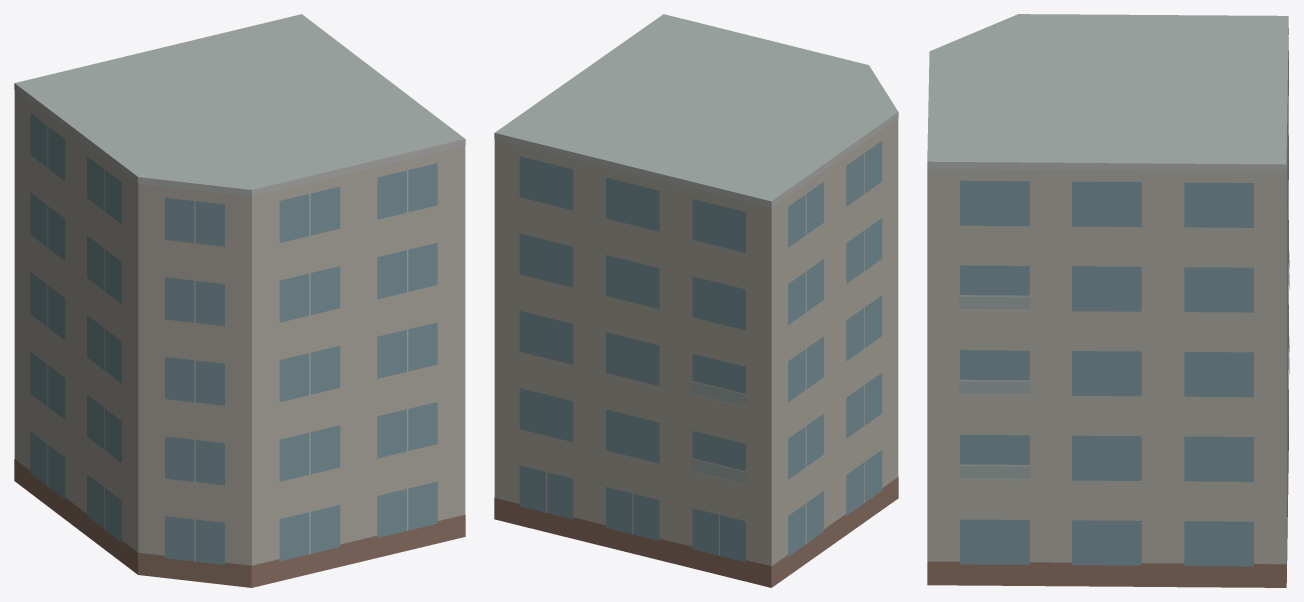
Rendered from survey-upis-32630138.glb.
3 views of the same model, side by side, from view 1: azimuth 30°, elevation 25°; view 2: azimuth 150°, elevation 25°; view 3: azimuth 270°, elevation 25° (orthographic). The views are drawn at different scales.
Visible parts, largest first — view 1: survey-upis-32630138.tmp; view 2: survey-upis-32630138.tmp; view 3: survey-upis-32630138.tmp.
Part boxes in pixels (x1,y1,x2,y2): survey-upis-32630138.tmp: (14, 14, 465, 587); survey-upis-32630138.tmp: (494, 14, 898, 587); survey-upis-32630138.tmp: (927, 14, 1289, 587).
Size of the model in its own units: 10.98 by 14.4 by 11.18.
